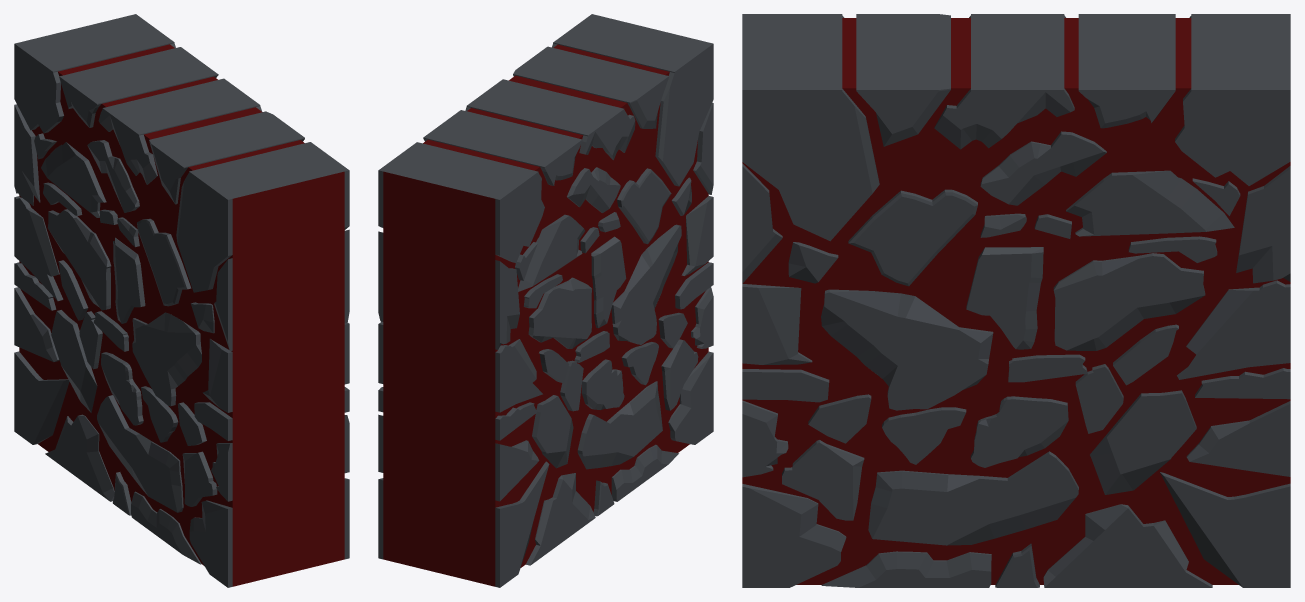
File: AbWall.fbx
3 views of the same model, side by side, from view 1: azimuth 30°, elevation 25°; view 2: azimuth 150°, elevation 25°; view 3: azimuth 270°, elevation 25° (orthographic). The views are drawn at different scales.
Parts seen in each view (by area): view 1: AbWall; view 2: AbWall; view 3: AbWall.
Boxes of the visible parts, box(x1,y1,x2,y2) form: AbWall: box(14, 14, 349, 587); AbWall: box(378, 14, 713, 587); AbWall: box(742, 14, 1290, 587).
Size of the model in its own units: 197 by 601 by 600.
